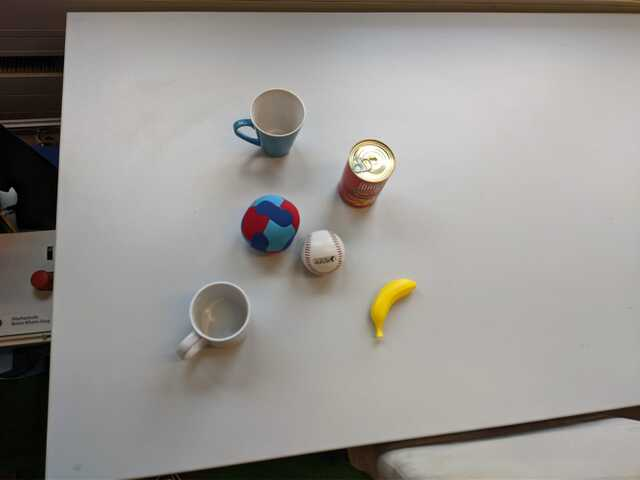005_tomato_soup_can: (338, 140, 397, 208)
011_banana: (369, 278, 417, 339)
025_mug: (175, 282, 252, 361), (233, 89, 306, 156)
055_baseball: (300, 229, 347, 277)
057_racquetball: (241, 193, 301, 253)
